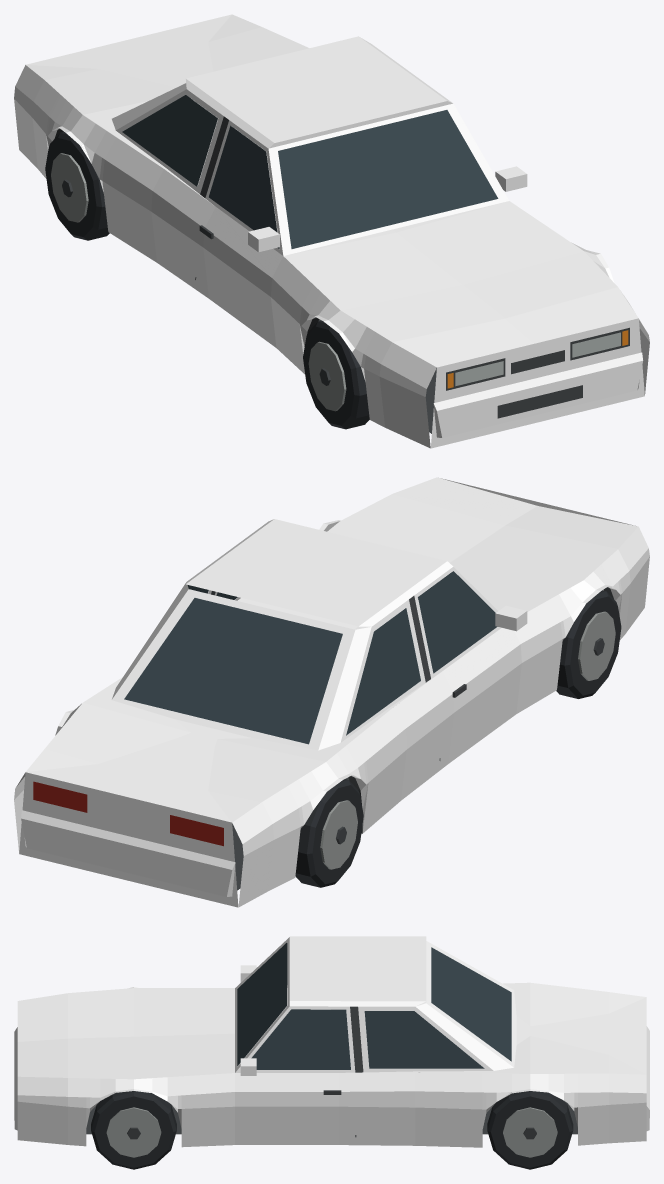
The model's file is mizuchi_arashi_s.glb.
3 views of the same model, one above another, from view 1: azimuth 30°, elevation 25°; view 2: azimuth 150°, elevation 25°; view 3: azimuth 270°, elevation 25° (orthographic). The views are drawn at different scales.
Visible parts, largest first — view 1: mizuchi_arashi_s; view 2: mizuchi_arashi_s; view 3: mizuchi_arashi_s.
Part boxes in pixels (x1,y1,x2,y2): mizuchi_arashi_s: (14, 14, 649, 448); mizuchi_arashi_s: (14, 477, 649, 907); mizuchi_arashi_s: (14, 936, 649, 1169).
Bounding box in the file's own units: 1.82 × 1.24 × 4.7.
8 materials, 1 textured.
